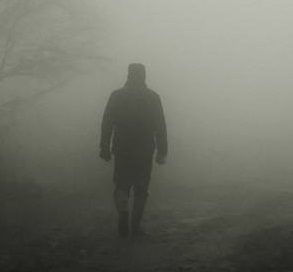person: (97, 61, 170, 240)
